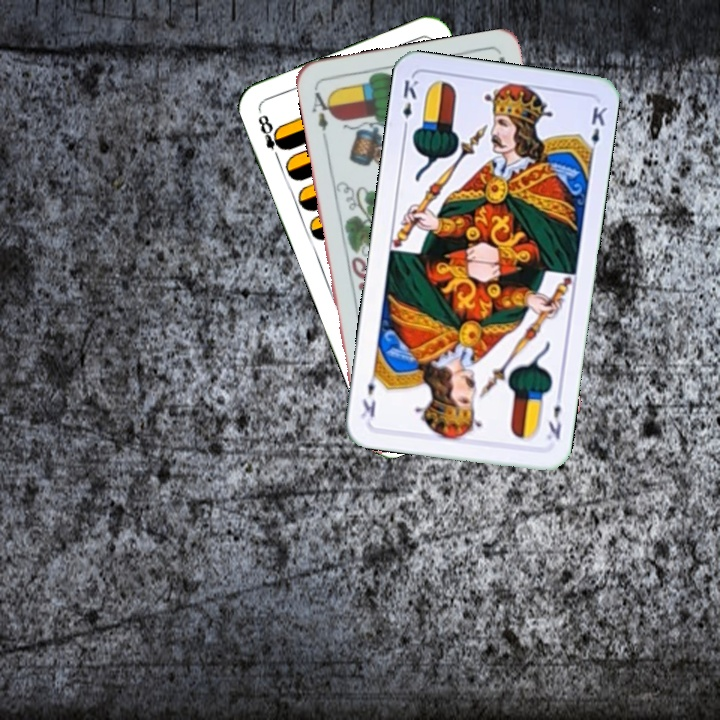E8: (254, 110, 288, 164)
EA: (307, 85, 336, 143)
EK: (398, 75, 421, 134), (543, 388, 565, 443)
